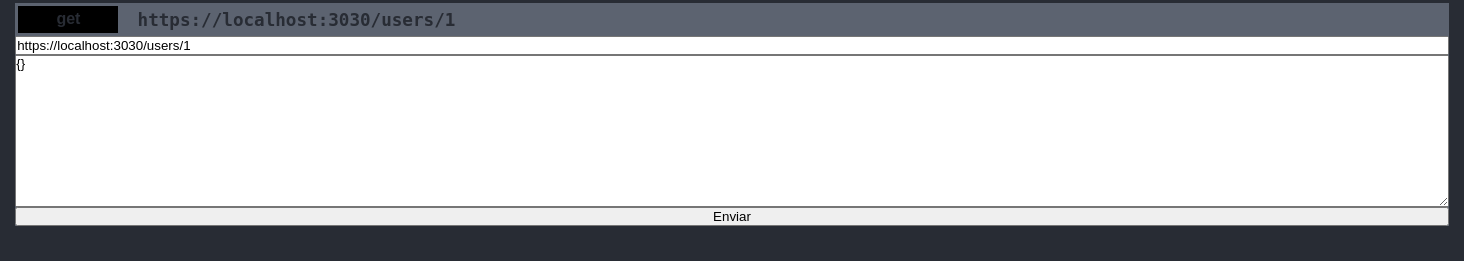
it: Requisition › should render correct response on submit request
Click the button with test id "btn": (732,216) [15, 207, 1449, 226]
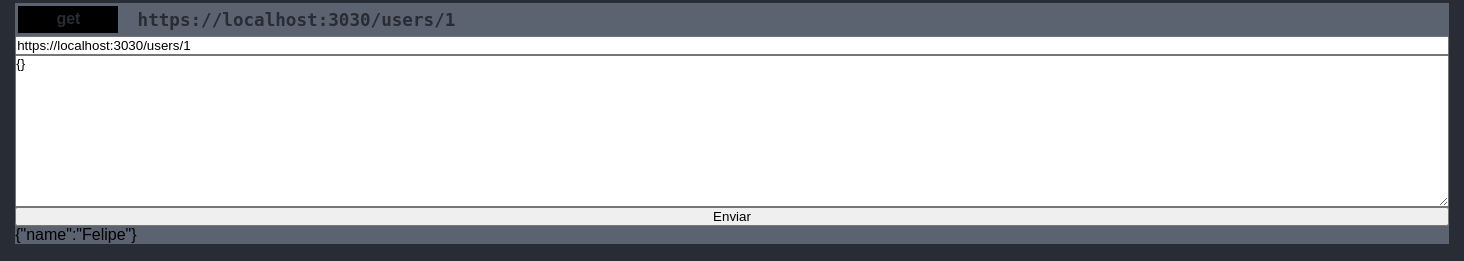
Now the text "{\"name\":\"Felipe\"}" is shown, box [15, 226, 137, 243]
